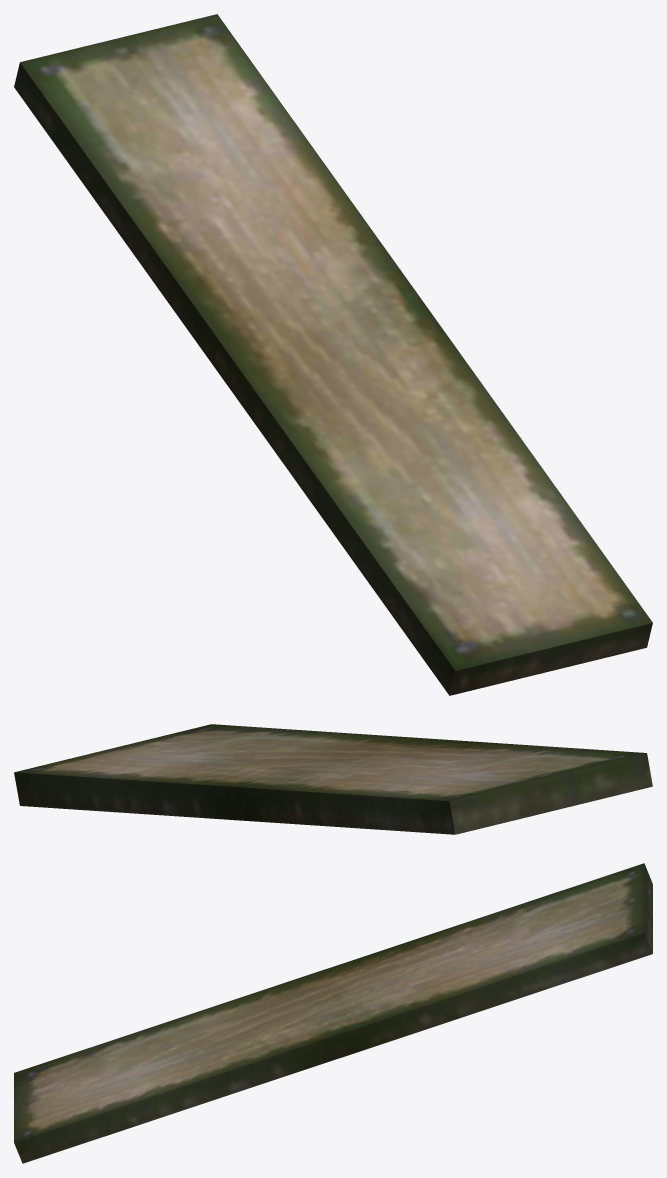
Rendered from plank.fbx.
3 views of the same model, one above another, from view 1: azimuth 30°, elevation 25°; view 2: azimuth 210°, elevation 25°; view 3: azimuth 270°, elevation 25° (orthographic). The views are drawn at different scales.
Visible parts, largest first — view 1: plank; view 2: plank; view 3: plank.
Boxes of the visible parts, x1,y1,x2,y2 form: plank: (14, 14, 652, 695); plank: (14, 724, 652, 834); plank: (14, 863, 652, 1163).
Size of the model in its own units: 273 by 421 by 1055.
